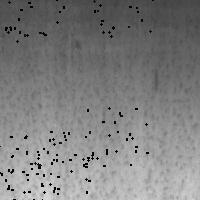pitted_surface: (1, 1, 200, 200), (87, 107, 146, 165), (34, 131, 88, 191), (7, 151, 63, 200), (5, 0, 63, 40), (93, 0, 152, 35), (0, 134, 28, 191)
